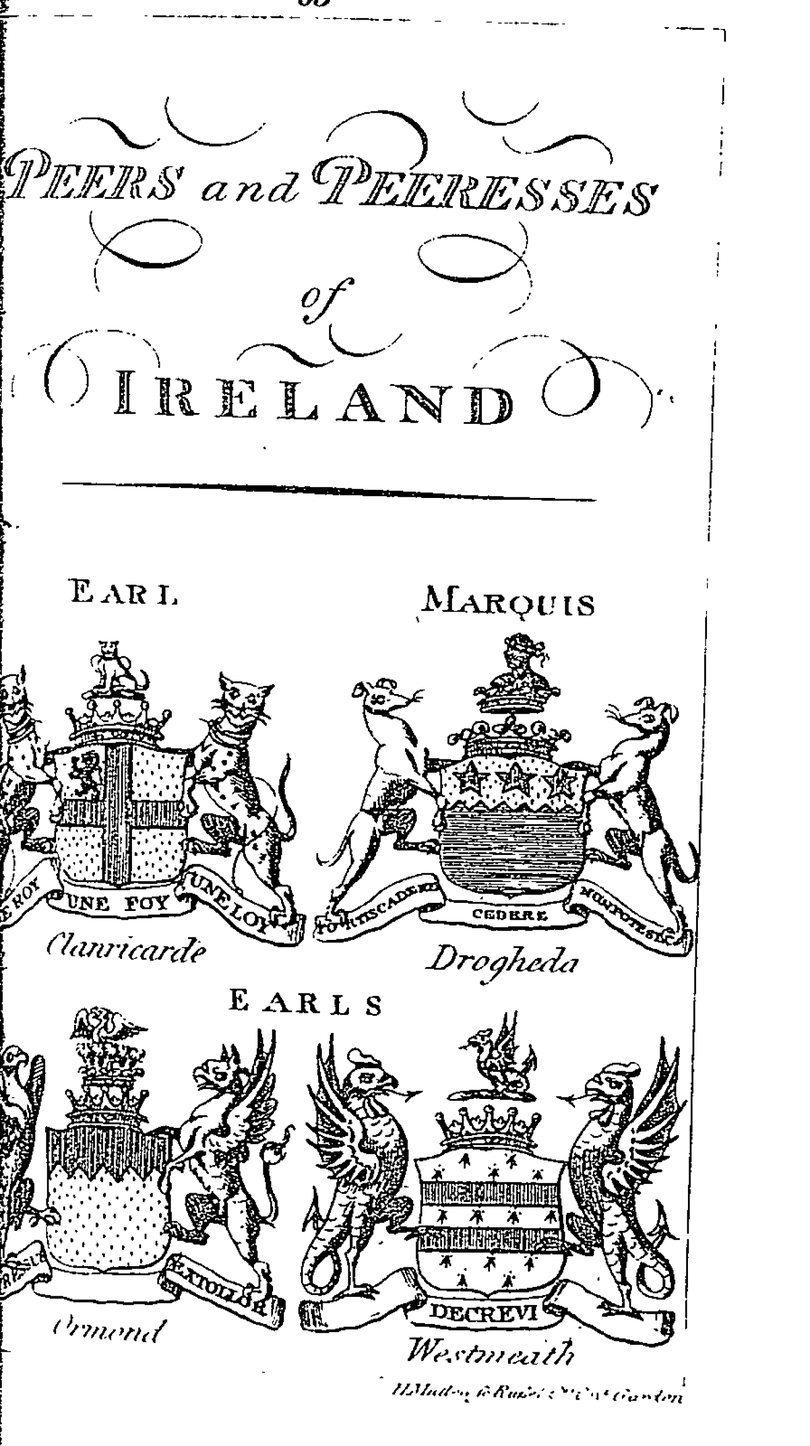coat_of_arms: (300, 1015, 690, 1373), (316, 622, 700, 982), (2, 622, 303, 969), (4, 997, 287, 1344)
